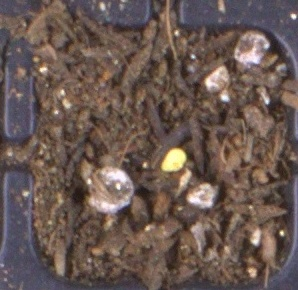chilli seed: (160, 147, 187, 173)
